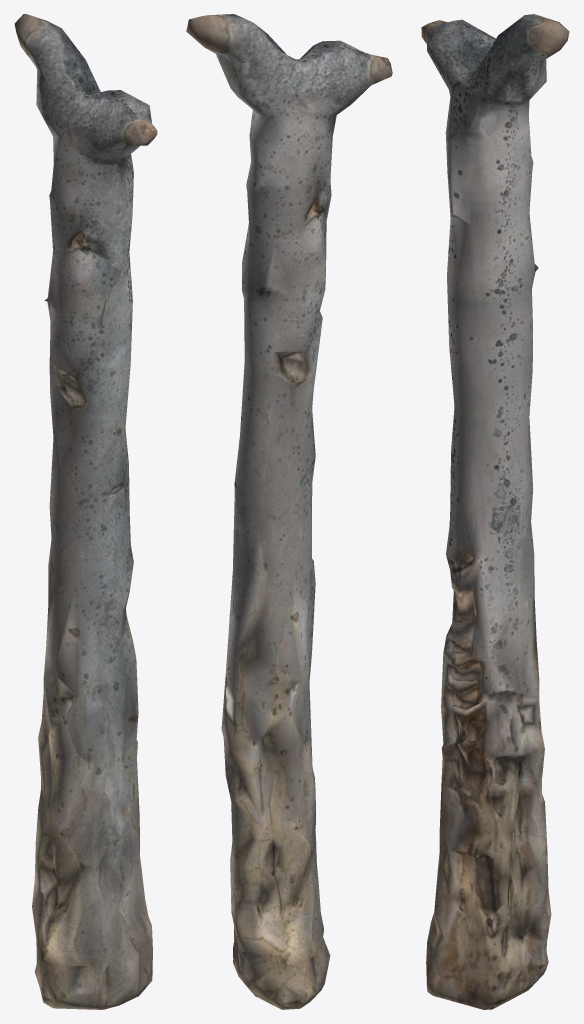
File: dead_quiver.glb
3 renders of one model, left to right at view 1: azimuth 90°, elevation 25°; view 2: azimuth 150°, elevation 25°; view 3: azimuth 270°, elevation 25°, orthographic. The views are drawn at different scales.
Parts seen in each view (by area): view 1: dead_quiver_trunk_LOD0; view 2: dead_quiver_trunk_LOD0; view 3: dead_quiver_trunk_LOD0.
Part boxes in pixels (<box>): dead_quiver_trunk_LOD0: <box>14,14,157,1009</box>; dead_quiver_trunk_LOD0: <box>186,14,392,1009</box>; dead_quiver_trunk_LOD0: <box>421,14,569,1009</box>.
Bounding box in the file's own units: 0.3052 × 1.99 × 0.2682.
Materials: 1 (1 with a texture image).
